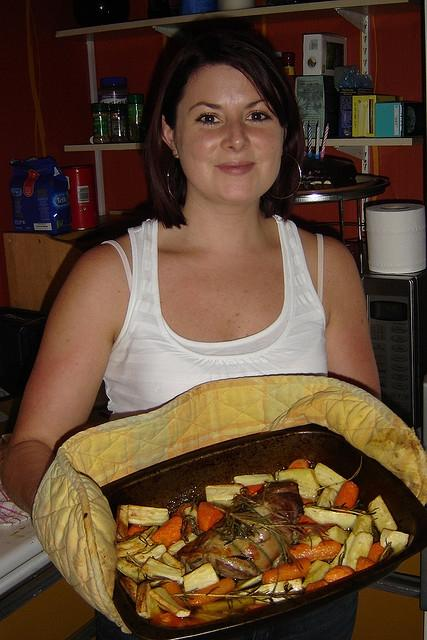carrot: (186, 578, 235, 608), (262, 558, 312, 584), (290, 541, 341, 563), (150, 516, 183, 550), (156, 579, 190, 610), (198, 502, 224, 532), (334, 480, 359, 510), (151, 613, 188, 629), (323, 566, 355, 582), (368, 542, 386, 563), (305, 580, 329, 594), (356, 556, 376, 572), (127, 524, 150, 537), (171, 504, 192, 518), (244, 603, 269, 614), (288, 459, 311, 469), (246, 484, 266, 495), (298, 515, 318, 524)
potato: (276, 468, 320, 502), (304, 506, 358, 531), (148, 588, 190, 618), (368, 495, 398, 534), (346, 531, 374, 572), (182, 562, 220, 592), (206, 483, 245, 510), (117, 532, 156, 558), (140, 557, 182, 581), (314, 463, 346, 492), (128, 504, 170, 526), (245, 578, 302, 594), (302, 559, 331, 589), (117, 558, 146, 584), (135, 581, 154, 620), (168, 532, 198, 556), (130, 544, 166, 564), (380, 528, 409, 549), (234, 474, 278, 486), (352, 511, 373, 536), (119, 576, 137, 604), (116, 504, 128, 542), (160, 552, 185, 570), (325, 526, 350, 544), (236, 572, 264, 588), (316, 488, 337, 508), (298, 532, 322, 548), (184, 506, 198, 522)
